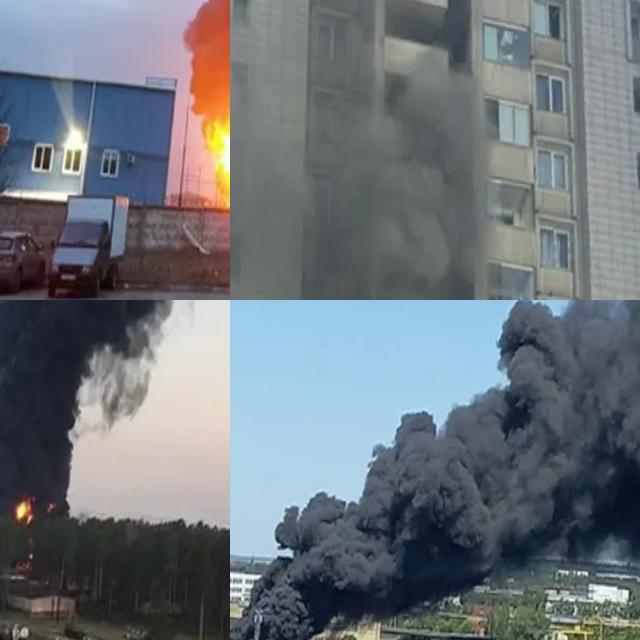smoke: (230, 300, 640, 640), (230, 25, 492, 300), (0, 300, 177, 527)
